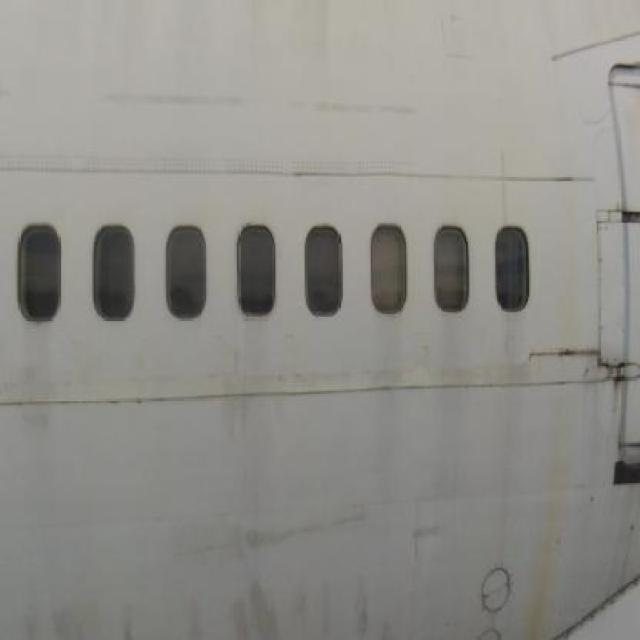Missing-Rivet: (592, 201, 640, 344)
Rust: (525, 435, 569, 640)
Scartch: (520, 348, 640, 397), (544, 11, 640, 62)
